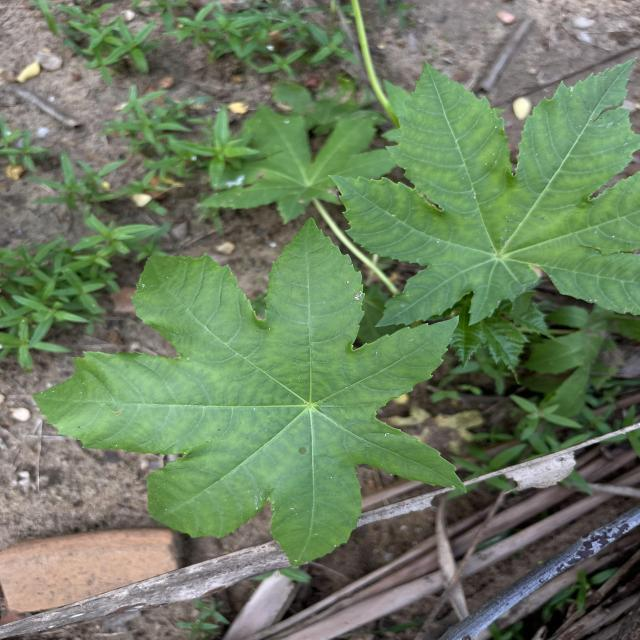Ricinus communis linn: (28, 211, 474, 574)
